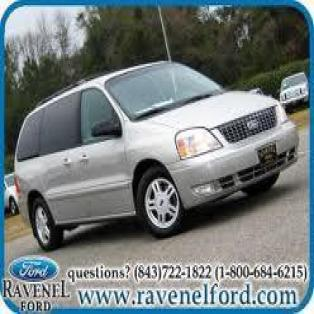Auto: (10, 56, 303, 252)
